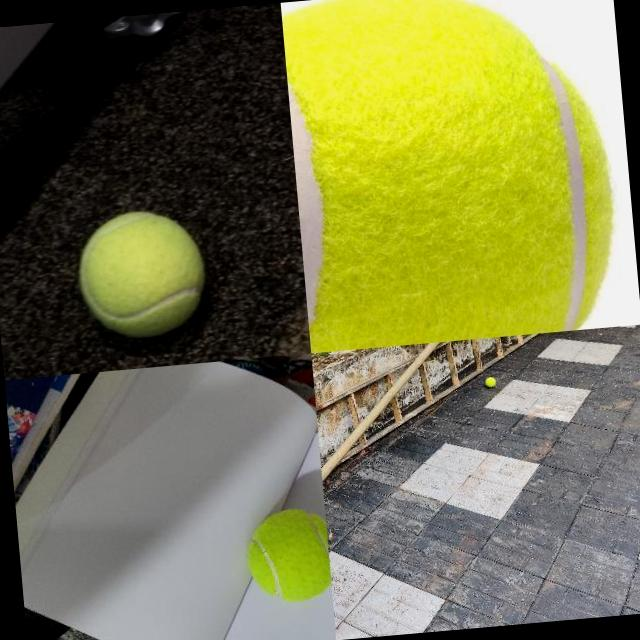Tennis Ball: (281, 0, 624, 352), (74, 205, 211, 342), (244, 504, 332, 605), (484, 376, 496, 387)
